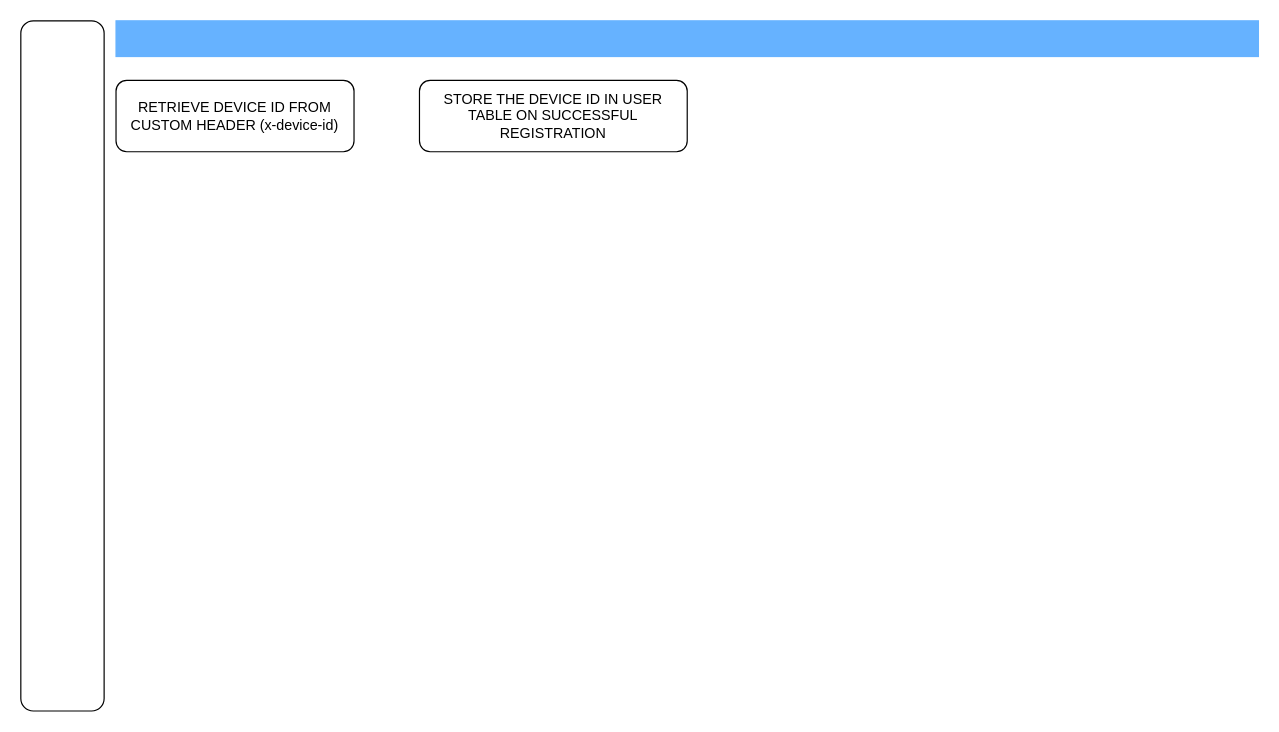
This 1279x732 diagram has some shape labels left out. The shapes that lost their labels are listed below. From the top down, each one's centre as x and y in pixels, then its label:
the point at 686,38: SIGN UP STAGE
the point at 62,365: All request will pass x-device-id in API call
